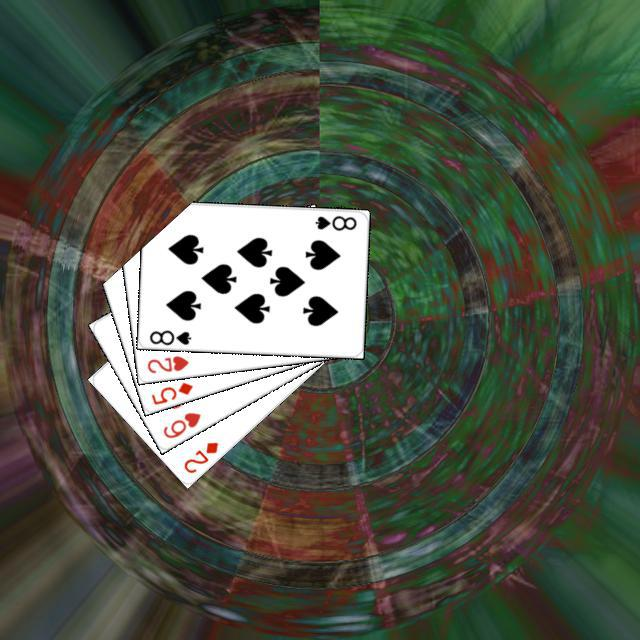2d: (179, 437, 220, 475)
2h: (142, 351, 190, 375)
5d: (146, 377, 194, 406)
6h: (158, 407, 202, 440)
8s: (310, 210, 358, 232), (145, 325, 193, 346)
